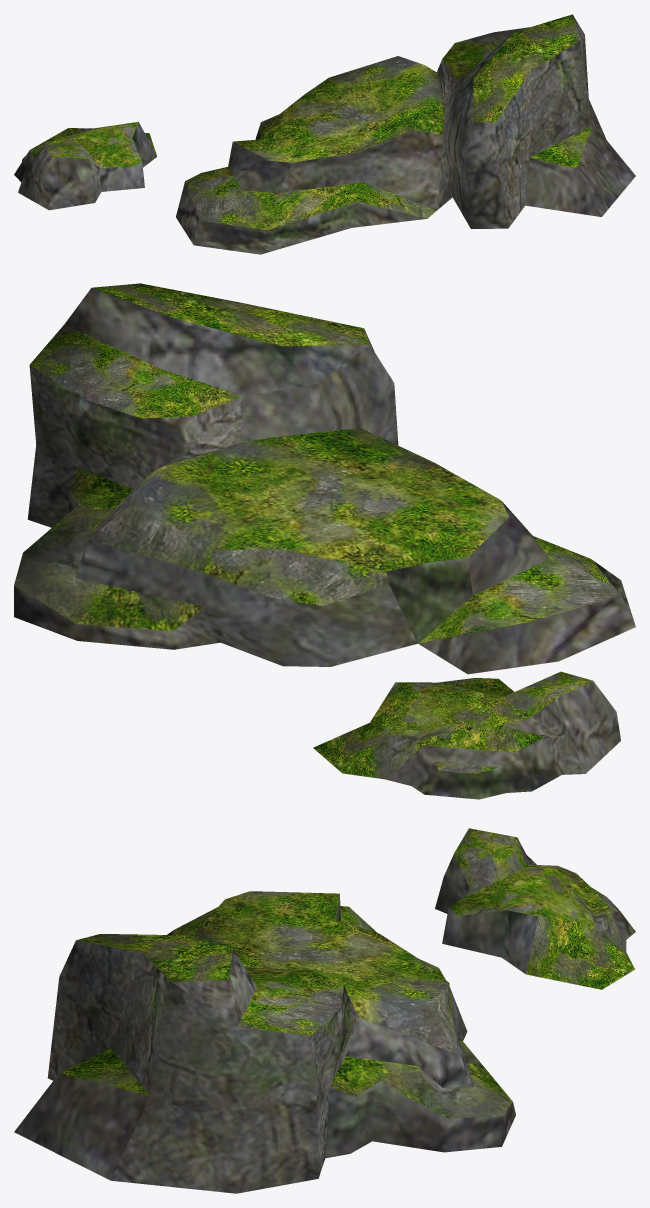
The model's file is S_Rock_Green003.FBX.
3 renders of one model, top to bottom at view 1: azimuth 30°, elevation 25°; view 2: azimuth 150°, elevation 25°; view 3: azimuth 270°, elevation 25°, orthographic. The views are drawn at different scales.
Parts seen in each view (by area): view 1: S_Rock_Green003; view 2: S_Rock_Green003; view 3: S_Rock_Green003.
Boxes of the visible parts, left/top/right/bottom form: S_Rock_Green003: left=14, top=14, right=635, bottom=254; S_Rock_Green003: left=14, top=283, right=635, bottom=799; S_Rock_Green003: left=14, top=828, right=635, bottom=1193.
Size of the model in its own units: 983 by 792 by 289.
